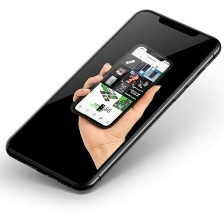phone: (3, 6, 222, 197)
